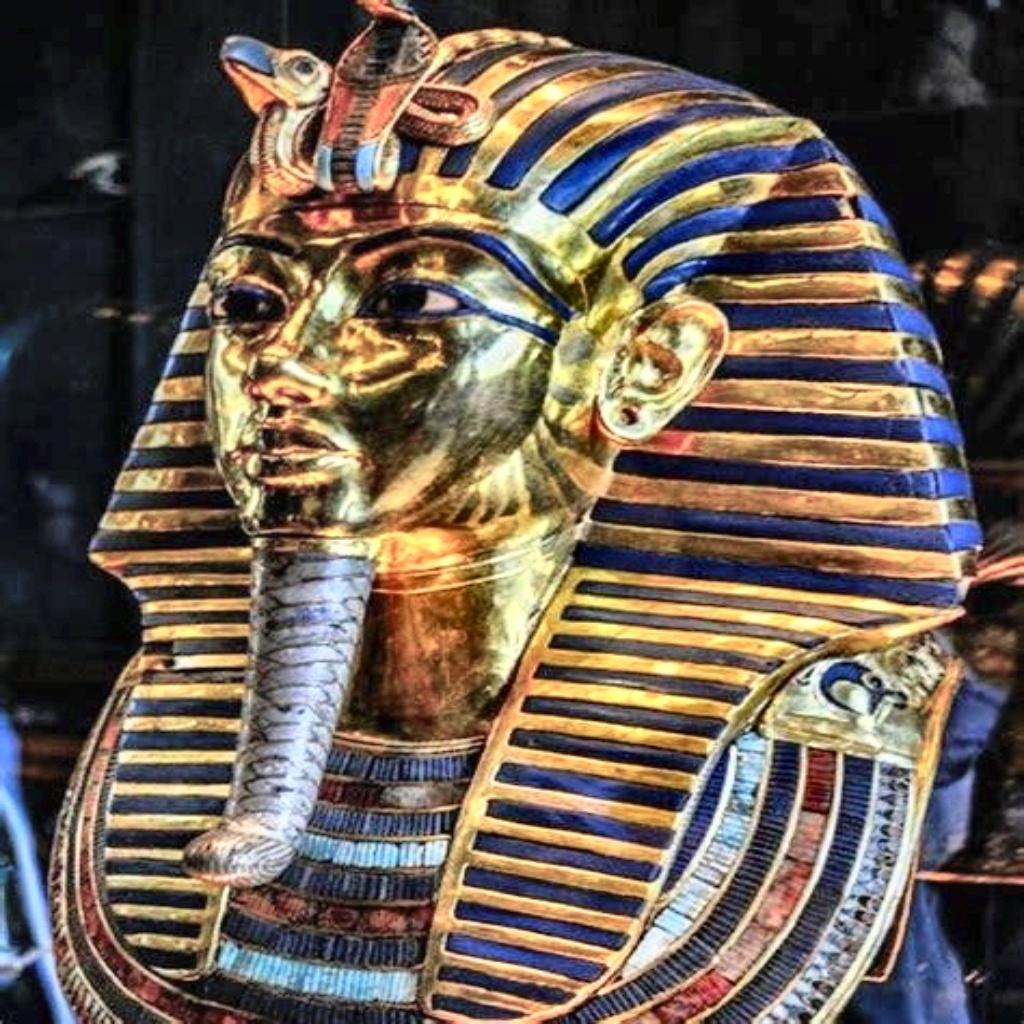Mask of Tutankhamun: (41, 0, 985, 1022)
